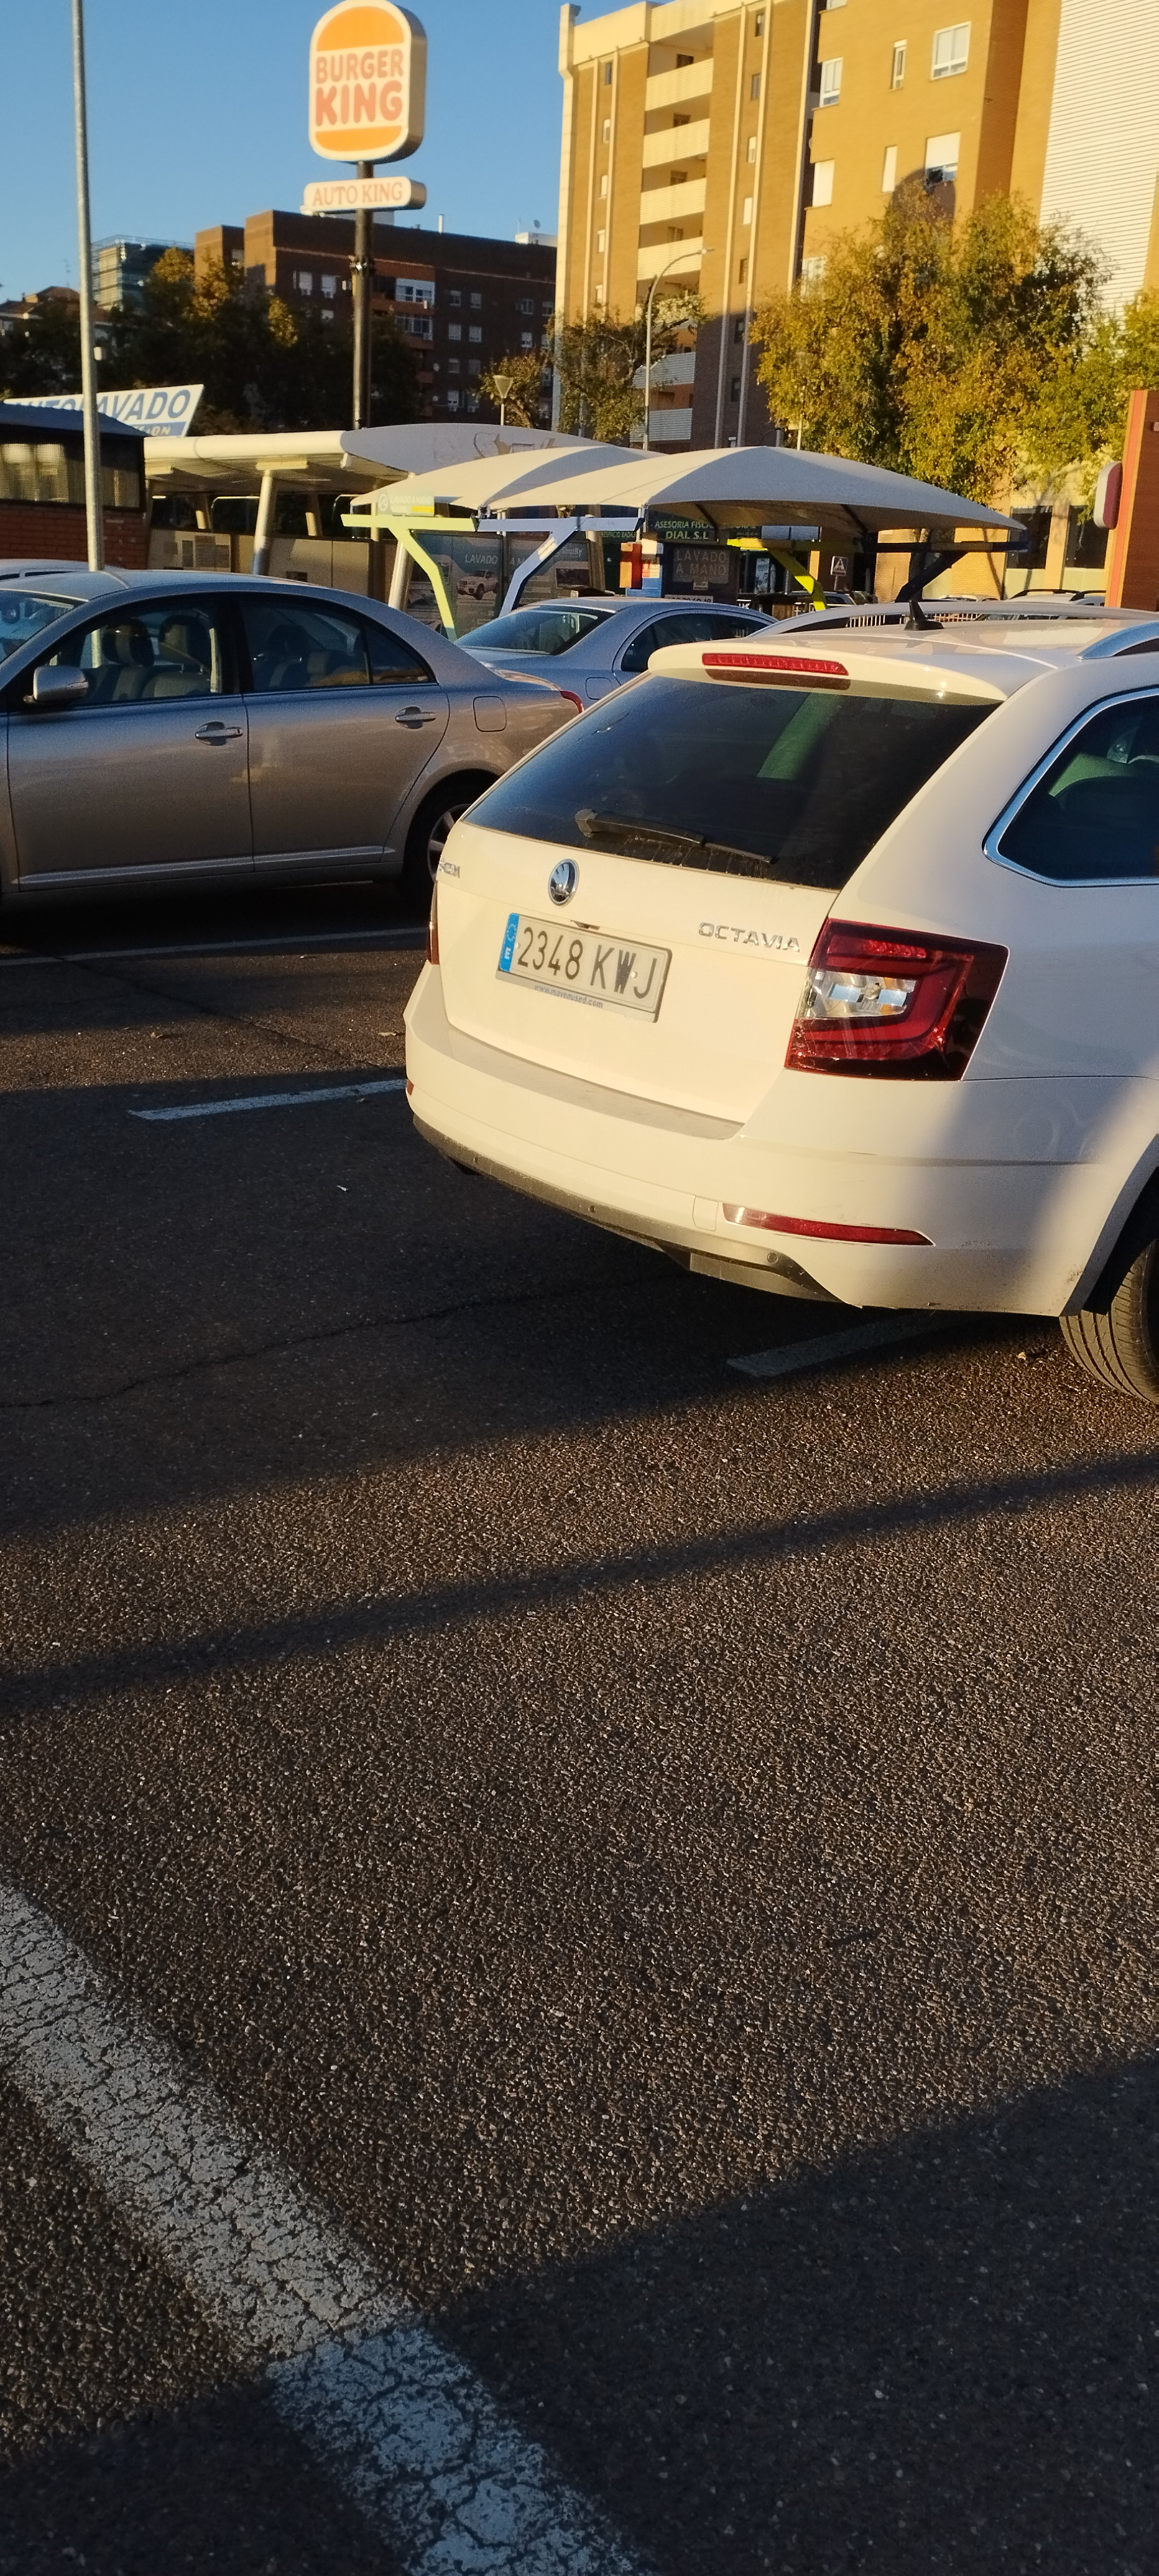Car: (403, 640, 1158, 1418)
Plate: (512, 907, 674, 969)
